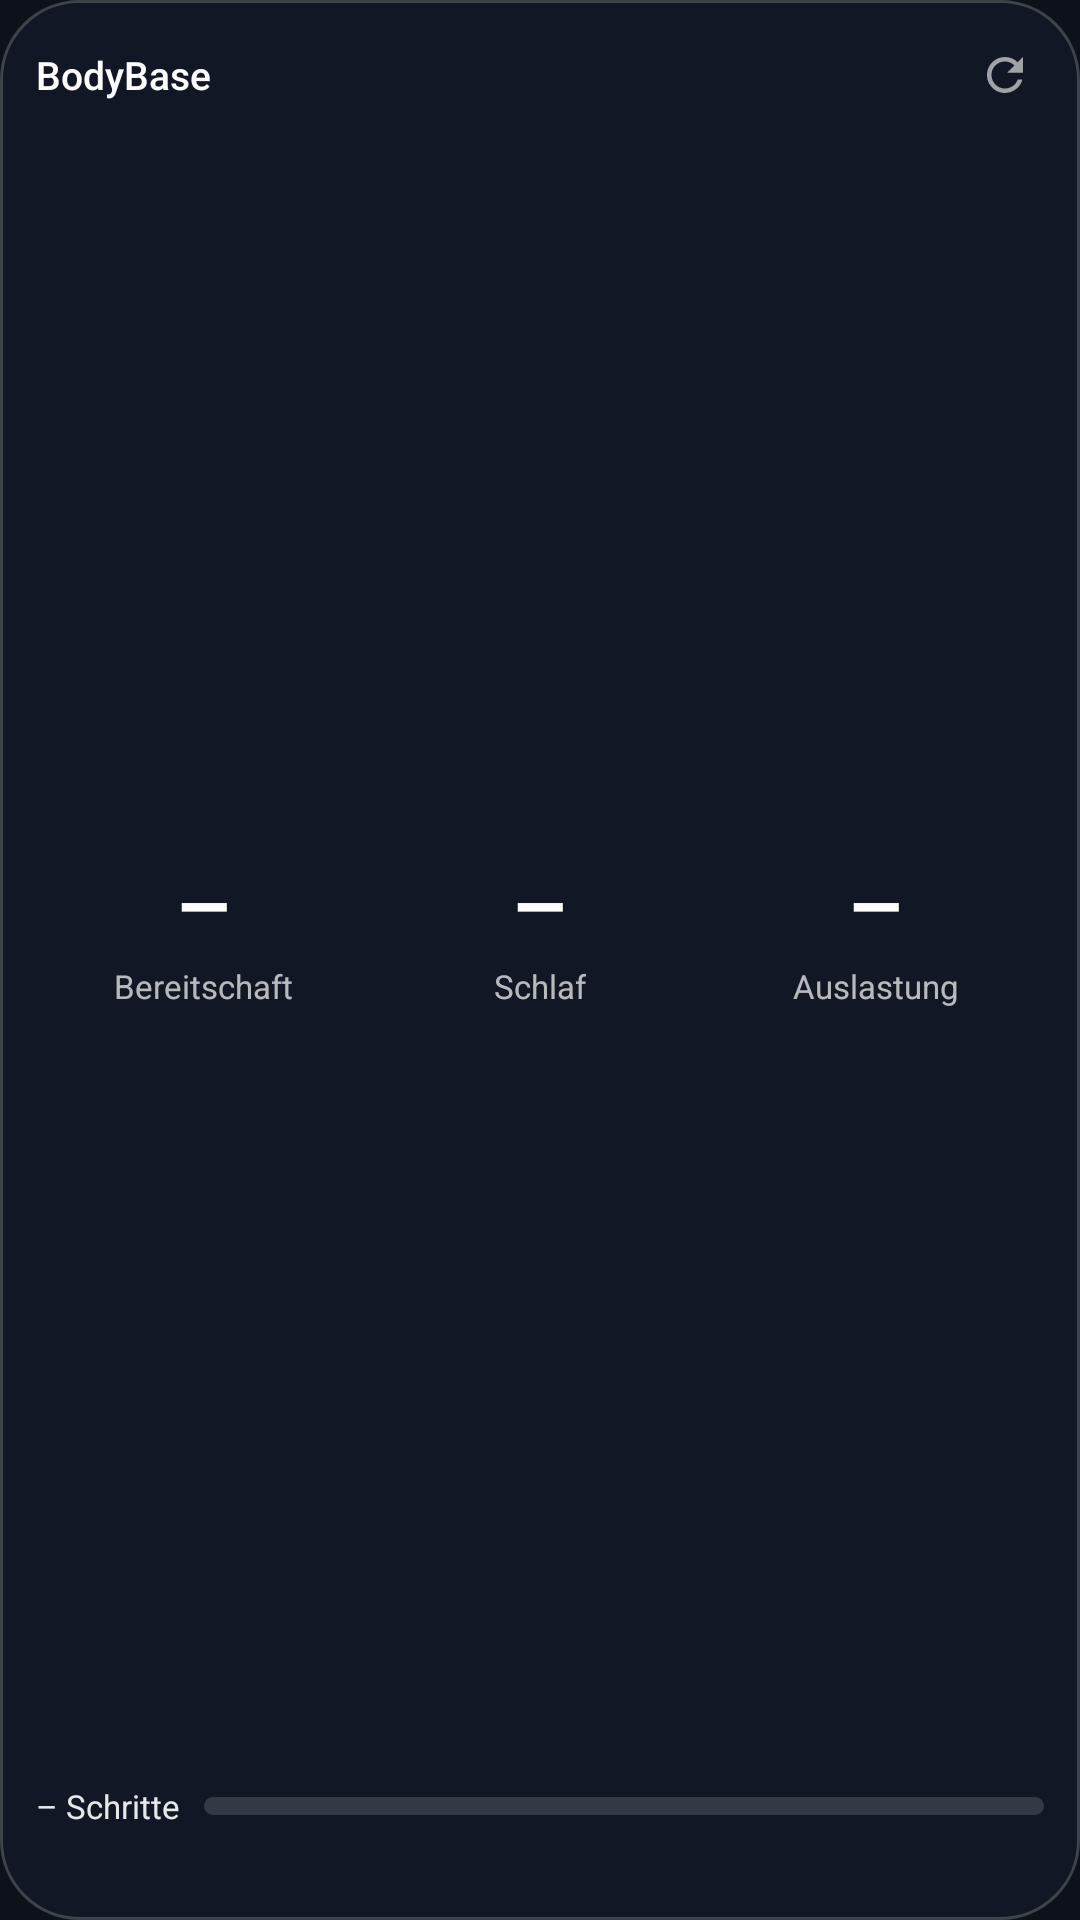

Named icons in this screenshot (1080*1920) and their bounding boxes, (x1, y1, x2, y2):
Aktualisieren: (987, 57, 1023, 93)
